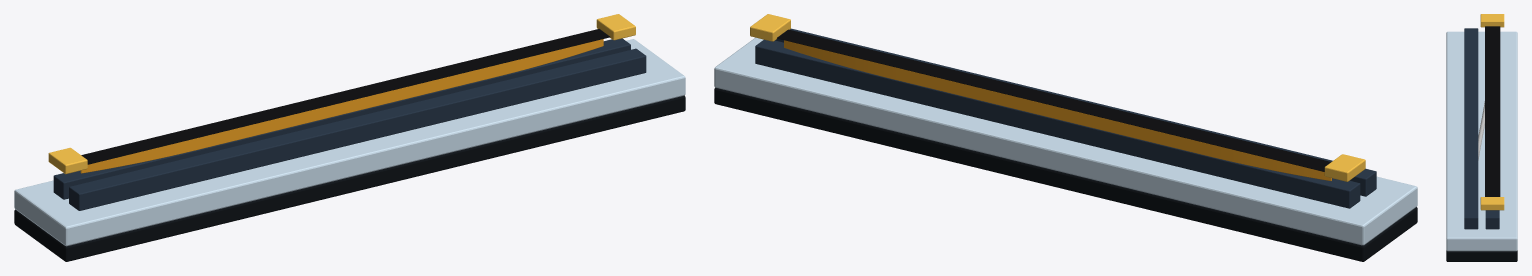
Rendered from sb2s3_switch_cell_3d.obj.
3 renders of one model, left to right at view 1: azimuth 30°, elevation 25°; view 2: azimuth 150°, elevation 25°; view 3: azimuth 270°, elevation 25°, orthographic. The views are drawn at different scales.
Parts seen in each view (by area): view 1: SiO2_Buried_Oxide, Waveguide_2_Cross, Silicon_Handle_Wafer, Sb2S3_Active_Patch, Graphene_MicroHeater, Waveguide_1_Bar, Gold_Electrode_In, Gold_Electrode_Out; view 2: SiO2_Buried_Oxide, Waveguide_1_Bar, Silicon_Handle_Wafer, Sb2S3_Active_Patch, Graphene_MicroHeater, Waveguide_2_Cross, Gold_Electrode_In, Gold_Electrode_Out; view 3: SiO2_Buried_Oxide, Waveguide_2_Cross, Graphene_MicroHeater, Silicon_Handle_Wafer, Gold_Electrode_Out, Gold_Electrode_In, Waveguide_1_Bar, Optical_Mode_TE00.
Boxes of the visible parts, x1,y1,x2,y2 form: SiO2_Buried_Oxide: (14, 39, 685, 246); Waveguide_2_Cross: (69, 48, 646, 210); Silicon_Handle_Wafer: (14, 95, 685, 261); Sb2S3_Active_Patch: (80, 39, 603, 173); Graphene_MicroHeater: (81, 29, 610, 164); Waveguide_1_Bar: (53, 38, 630, 199); Gold_Electrode_In: (48, 147, 87, 173); Gold_Electrode_Out: (596, 14, 635, 40); SiO2_Buried_Oxide: (714, 37, 1417, 245); Waveguide_1_Bar: (755, 39, 1360, 208); Silicon_Handle_Wafer: (714, 87, 1417, 261); Sb2S3_Active_Patch: (784, 40, 1331, 180); Graphene_MicroHeater: (777, 29, 1330, 171); Waveguide_2_Cross: (775, 28, 1376, 196); Gold_Electrode_In: (1324, 154, 1365, 181); Gold_Electrode_Out: (750, 14, 790, 41); SiO2_Buried_Oxide: (1446, 31, 1517, 251); Waveguide_2_Cross: (1464, 28, 1478, 229); Graphene_MicroHeater: (1485, 26, 1500, 196); Silicon_Handle_Wafer: (1446, 250, 1517, 261); Gold_Electrode_Out: (1480, 197, 1504, 210); Gold_Electrode_In: (1480, 14, 1504, 27); Waveguide_1_Bar: (1485, 210, 1499, 229); Optical_Mode_TE00: (1478, 101, 1484, 160).
Size of the model in its own units: 8.25 by 0.93 by 1.2.
